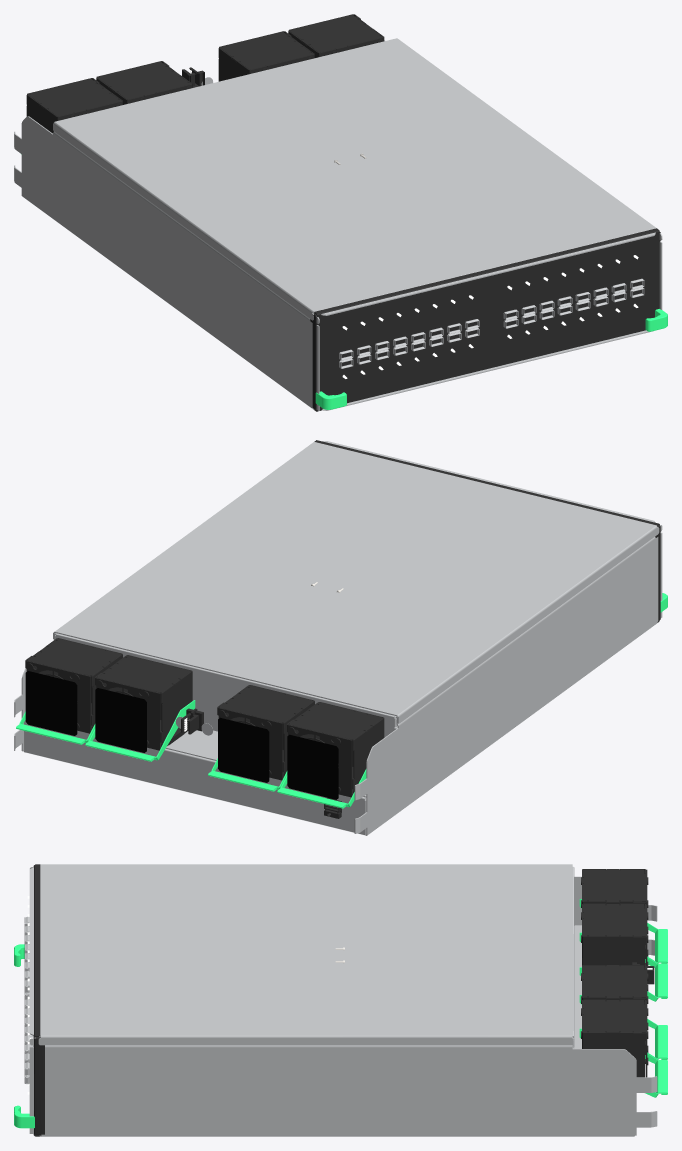
Rendered from sidecar-lod1.glb.
3 renders of one model, top to bottom at view 1: azimuth 30°, elevation 25°; view 2: azimuth 150°, elevation 25°; view 3: azimuth 270°, elevation 25°, orthographic. The views are drawn at different scales.
Visible parts, largest first — view 1: Plane.045, Fan_Screw_4.024_block.002, Cube.047_block.002, Fan_Frame_Side_block.001_block.002; view 2: Plane.045, Fan_Screw_4.024_block.002, Fan_Frame_Side_block.001_block.002, Cube.047_block.002; view 3: Plane.045, Fan_Screw_4.024_block.002, Fan_Frame_Side_block.001_block.002.
Boxes of the visible parts, box(x1,y1,x2,y2) form: Plane.045: box(14, 38, 662, 410); Fan_Screw_4.024_block.002: box(26, 14, 660, 411); Cube.047_block.002: box(182, 67, 638, 378); Fan_Frame_Side_block.001_block.002: box(21, 154, 667, 409); Plane.045: box(14, 441, 662, 835); Fan_Screw_4.024_block.002: box(25, 440, 660, 797); Fan_Frame_Side_block.001_block.002: box(16, 593, 667, 808); Cube.047_block.002: box(181, 708, 341, 818); Plane.045: box(24, 864, 657, 1136); Fan_Screw_4.024_block.002: box(33, 864, 648, 1136); Fan_Frame_Side_block.001_block.002: box(14, 899, 667, 1128).
Size of the model in its own units: 17598 by 4879 by 28114.
